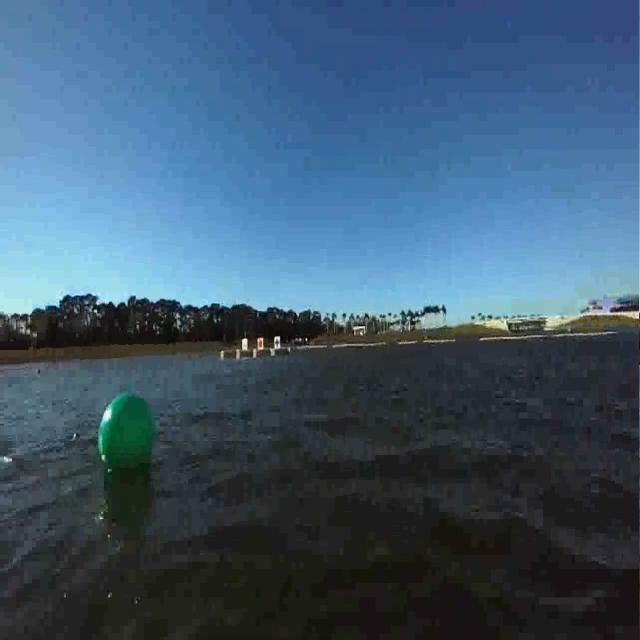green-buoy: (98, 390, 157, 475)
